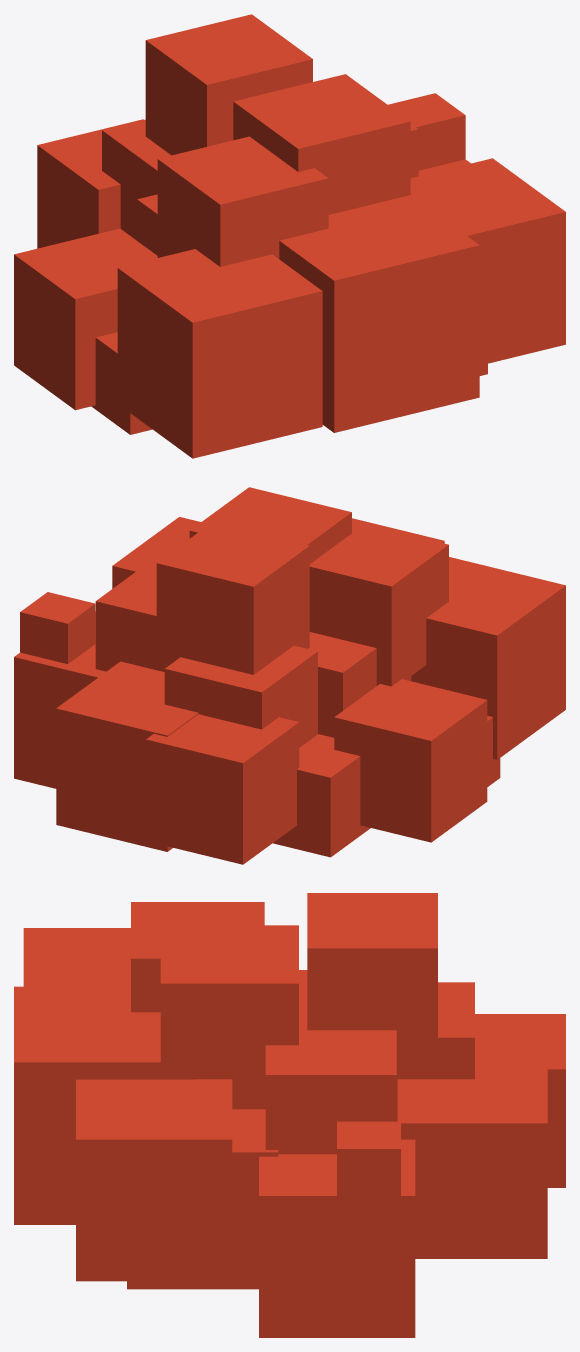
Rendered from Redgumtree.glb.
The picture shows the model from 3 angles, top to bottom: view 1: azimuth 30°, elevation 25°; view 2: azimuth 150°, elevation 25°; view 3: azimuth 270°, elevation 25°; orthographic projection. The views are drawn at different scales.
Visible parts, largest first — view 1: 立方体.016; view 2: 立方体.016; view 3: 立方体.016.
Boxes of the visible parts, box(x1,y1,x2,y2) form: 立方体.016: box(14, 14, 565, 458); 立方体.016: box(14, 487, 565, 864); 立方体.016: box(14, 893, 565, 1337).
Size of the model in its own units: 5.98 by 3.73 by 6.16.
